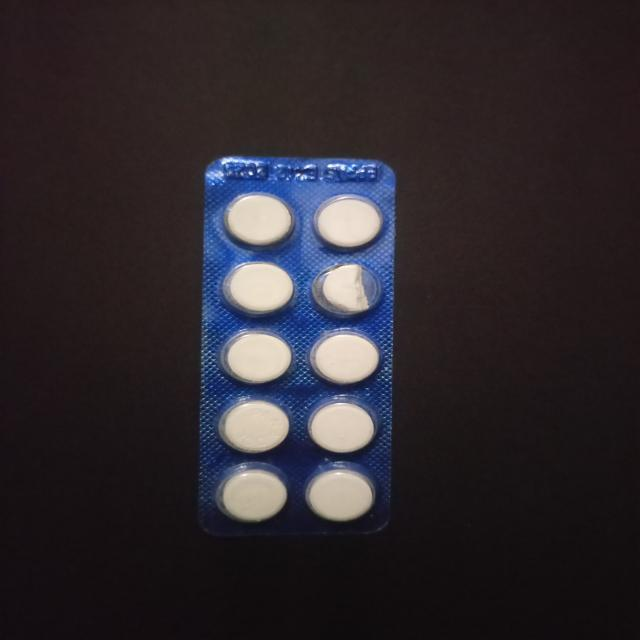defect: (309, 261, 388, 322)
